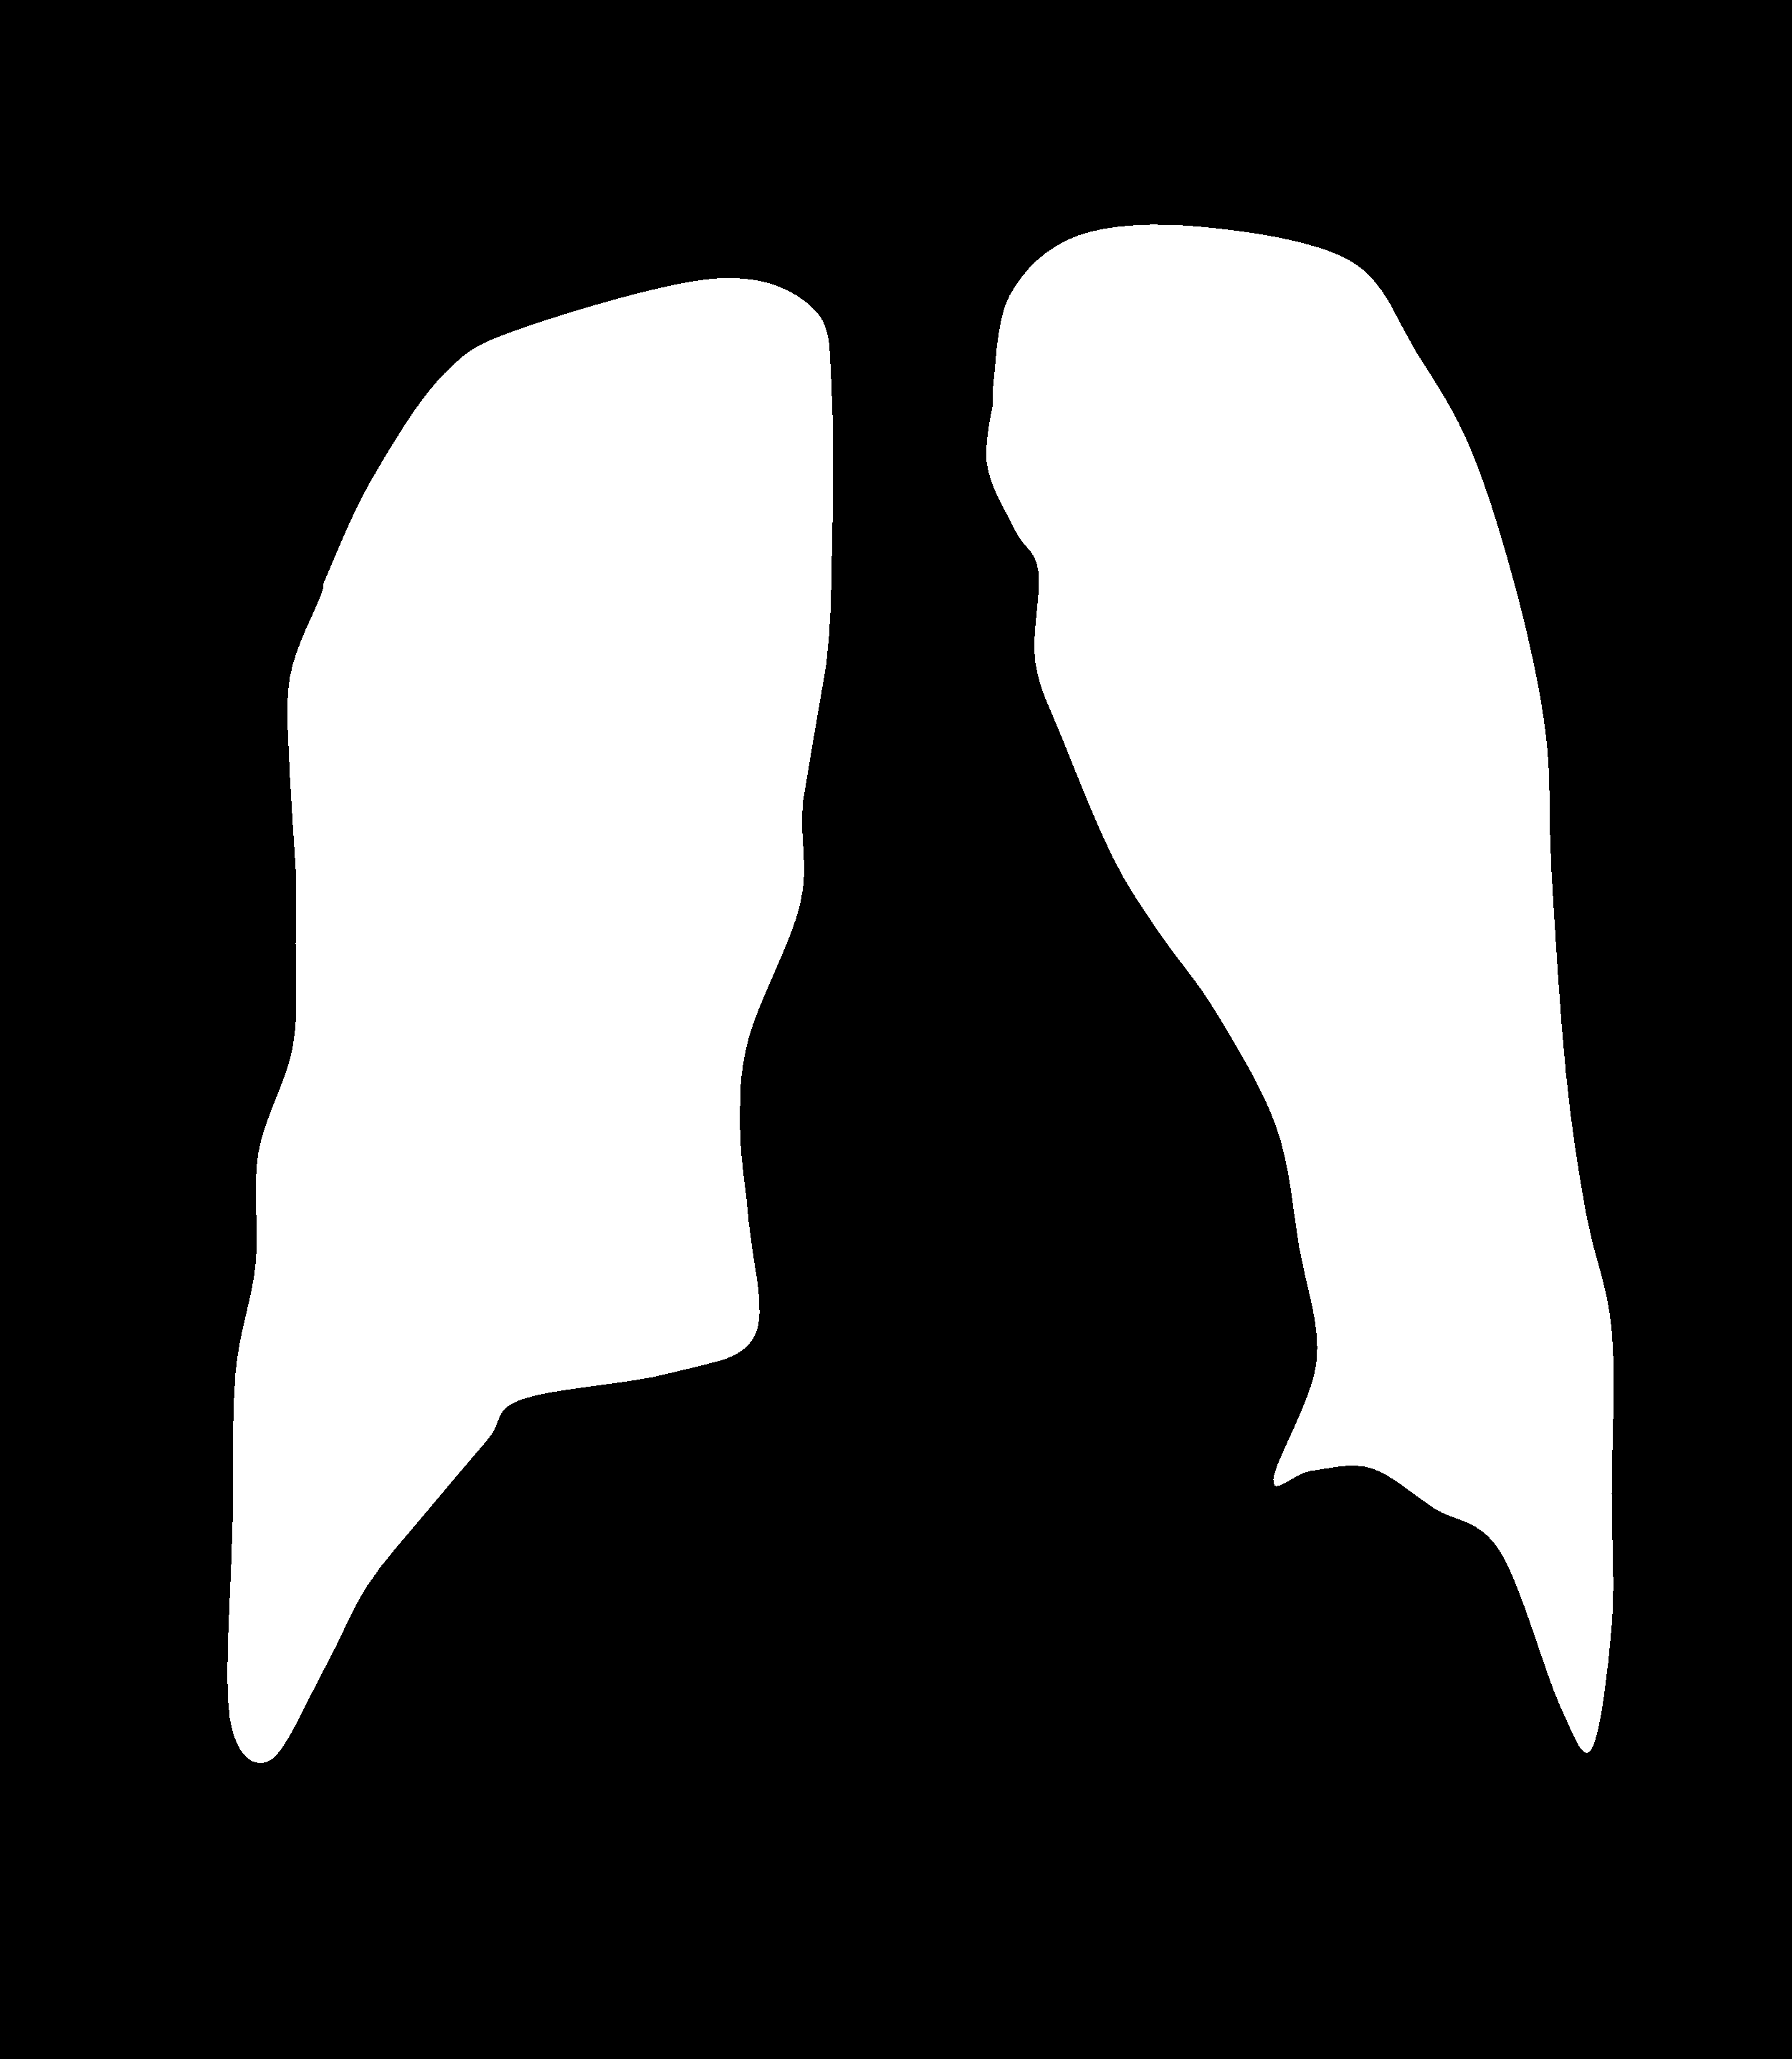heart: (718, 947, 1317, 1499)
left_lung: (224, 278, 832, 1756)
right_lung: (986, 224, 1622, 1742)
